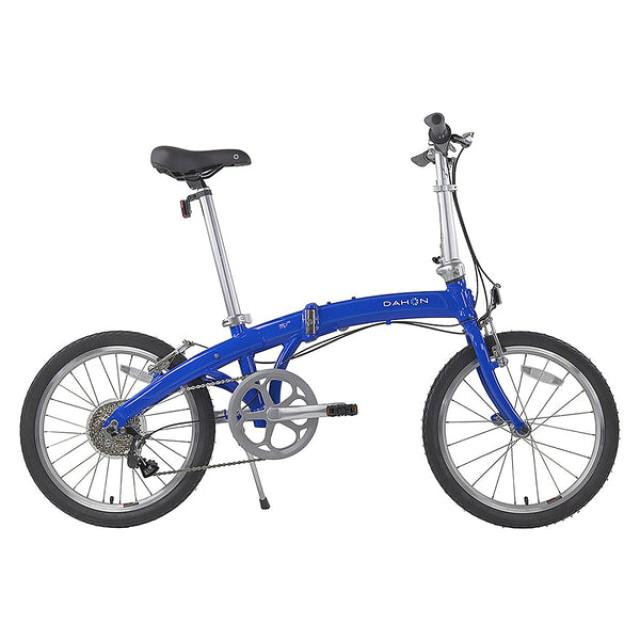folding-bike: (17, 111, 622, 533)
